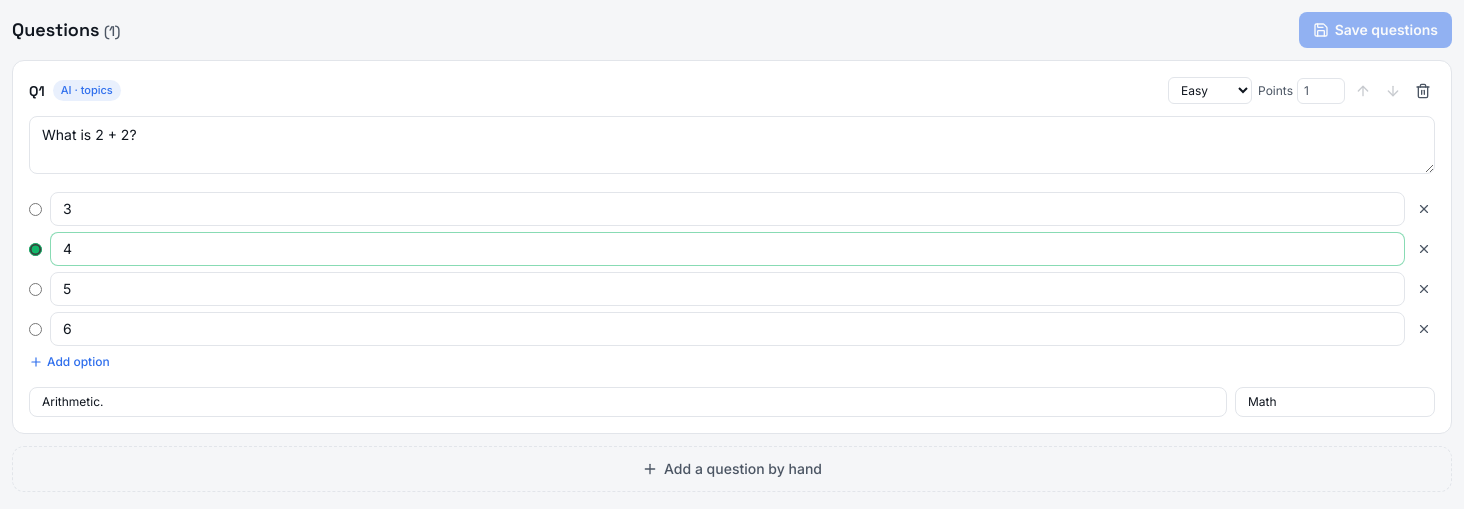
Test: QuestionListEditor › keeps the correct answer on the same option when one above it is removed
Remove option "3" (index 0) - "4" should stay the correct one.
Click the 1st button named "remove option" at (1424, 209), box 1413,198 -> 1435,220
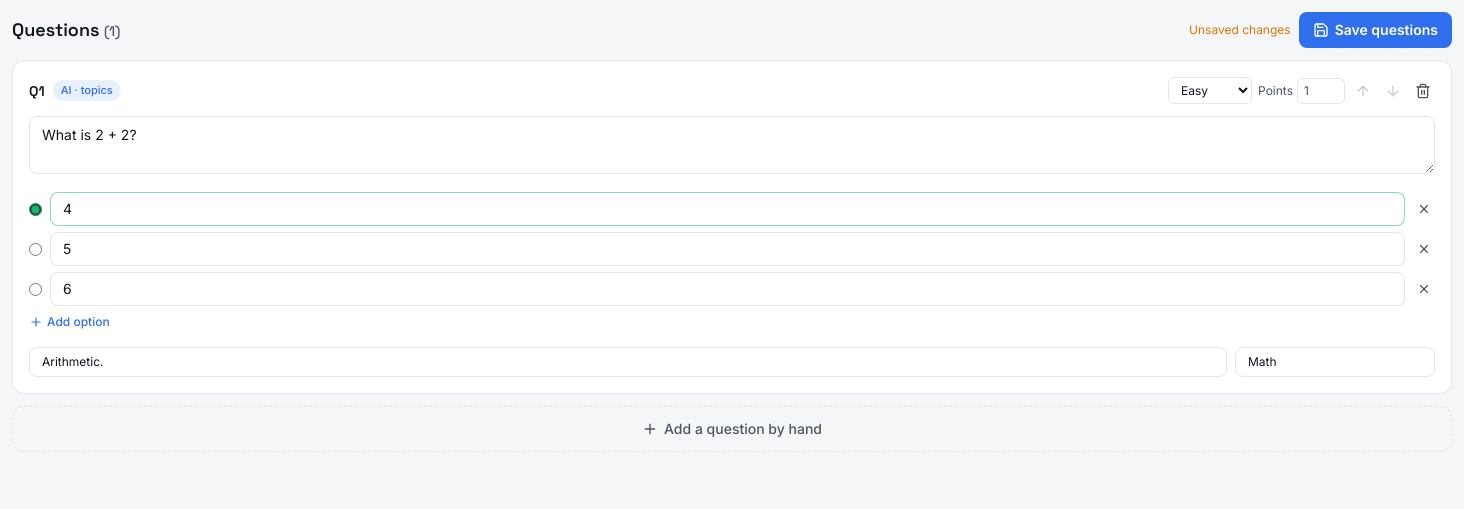
Result: the 1st field holds "4" at 50,192 -> 1405,226
